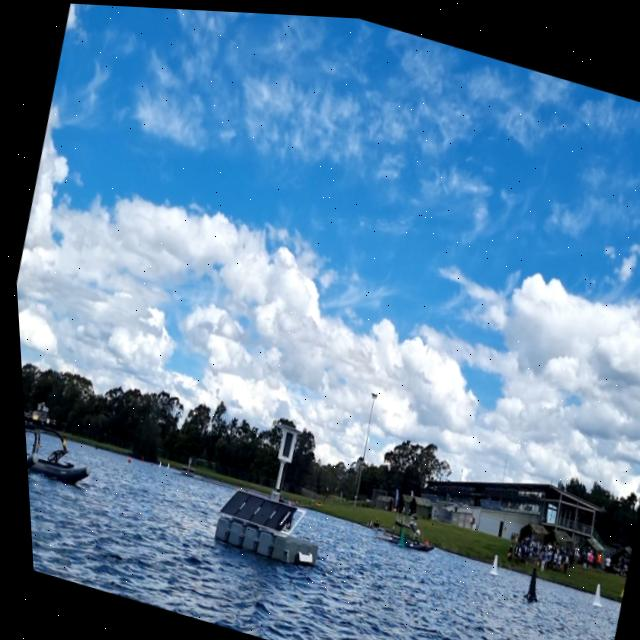led: (272, 425, 292, 458)
